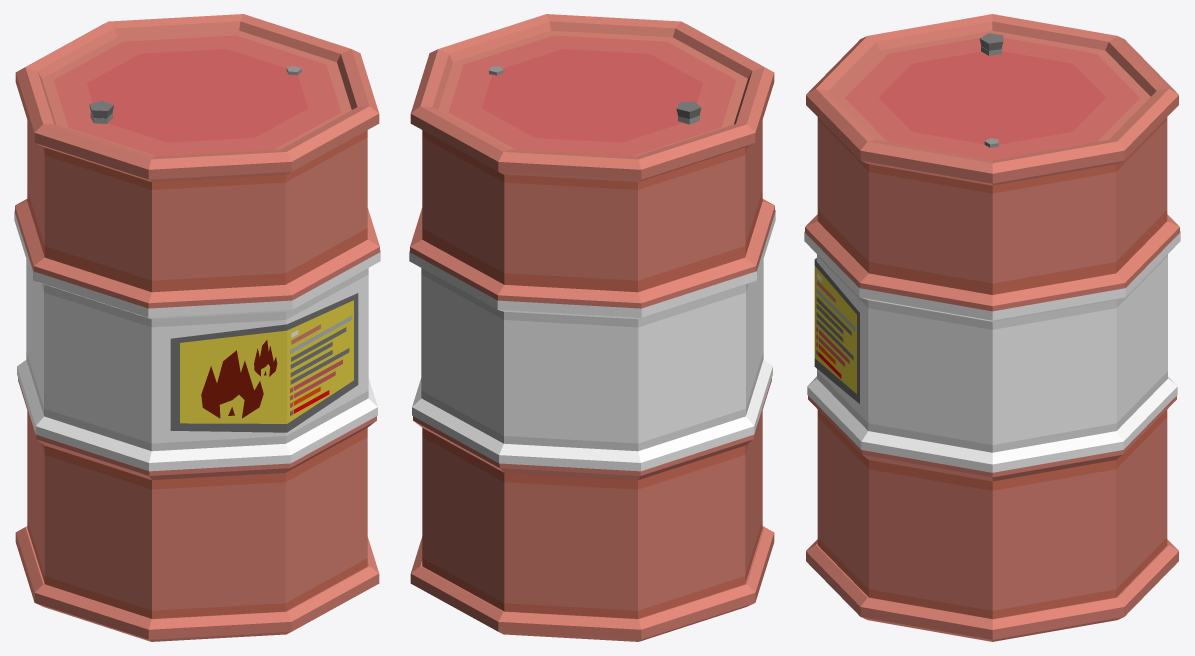
File: explbarrel.glb
3 views of the same model, side by side, from view 1: azimuth 30°, elevation 25°; view 2: azimuth 150°, elevation 25°; view 3: azimuth 270°, elevation 25° (orthographic).
Parts seen in each view (by area): view 1: _MeshInstance3D_60; view 2: _MeshInstance3D_60; view 3: _MeshInstance3D_60.
Boxes of the visible parts, x1,y1,x2,y2 form: _MeshInstance3D_60: (14,14,380,641); _MeshInstance3D_60: (409,14,775,641); _MeshInstance3D_60: (804,14,1180,641).
Size of the model in its own units: 0.7426 by 1.05 by 0.7426.
34 materials, 2 textured.
